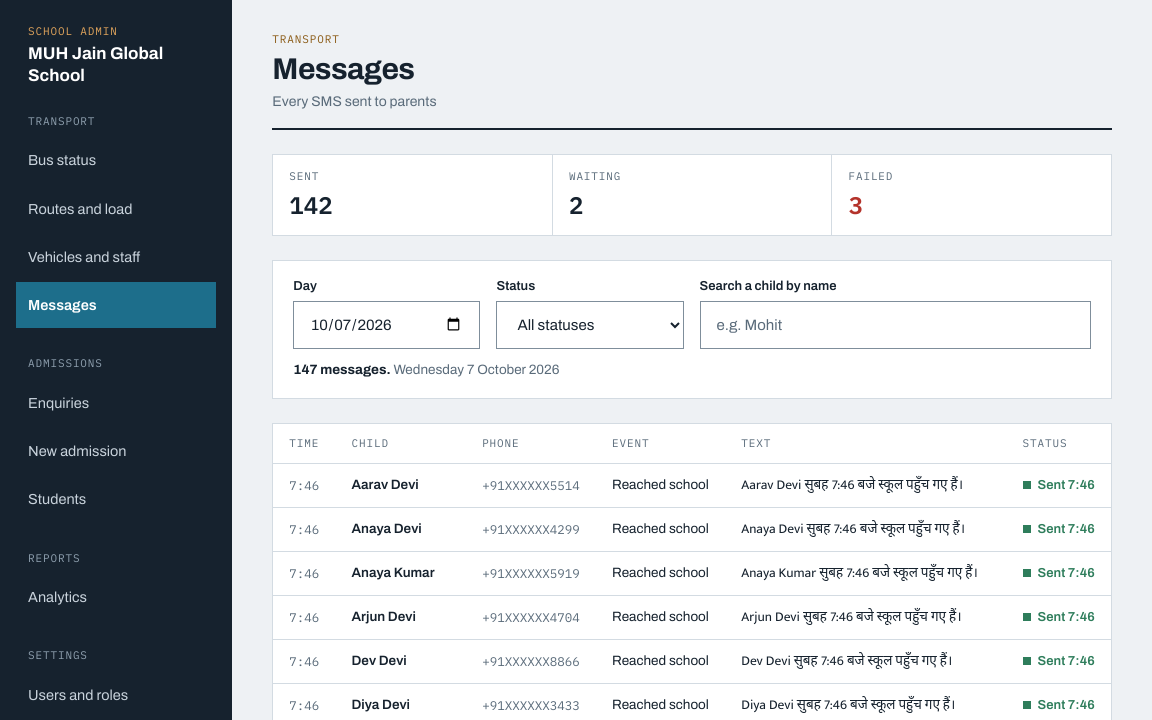
Scenario: Messages page › searchingAChildFiltersTheRows
Type "tanvi" into the search field labelled "Search a child by name".
click(895, 325); type("tanvi")  # box [700, 301, 1091, 349]
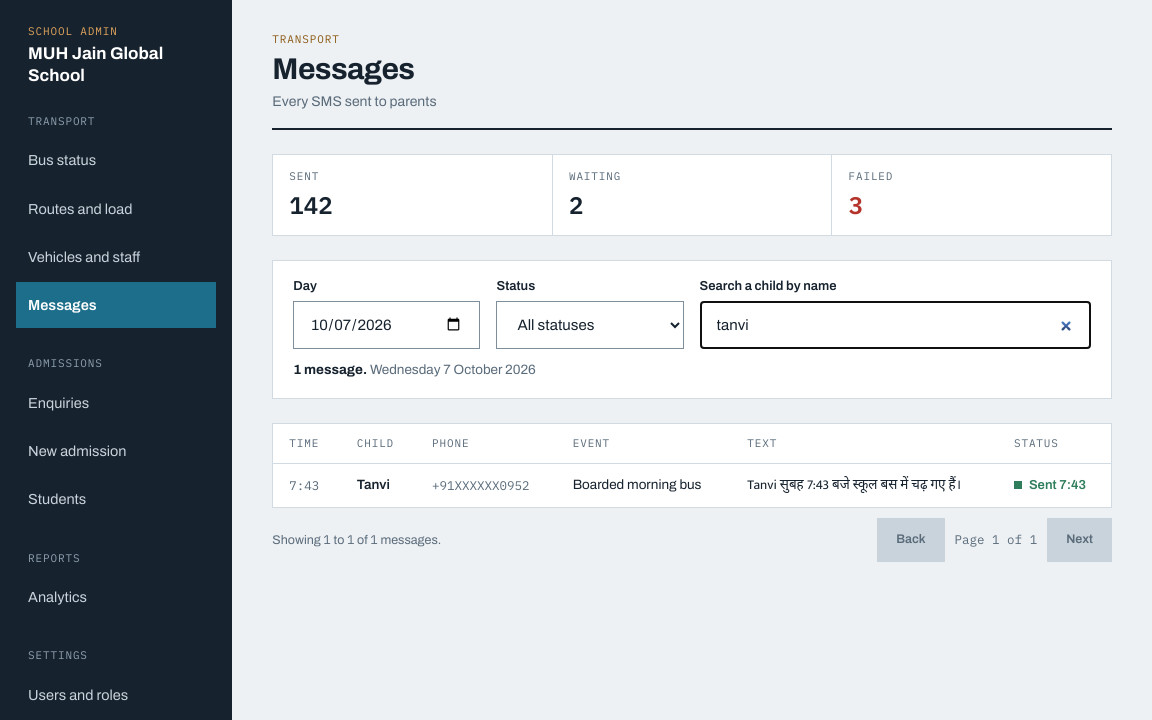
Expected: the number of rows is 2, [273, 424, 1111, 463]; [273, 464, 1111, 507]
Expected: the text "Sent 7:43" is shown, [1014, 476, 1086, 494]
